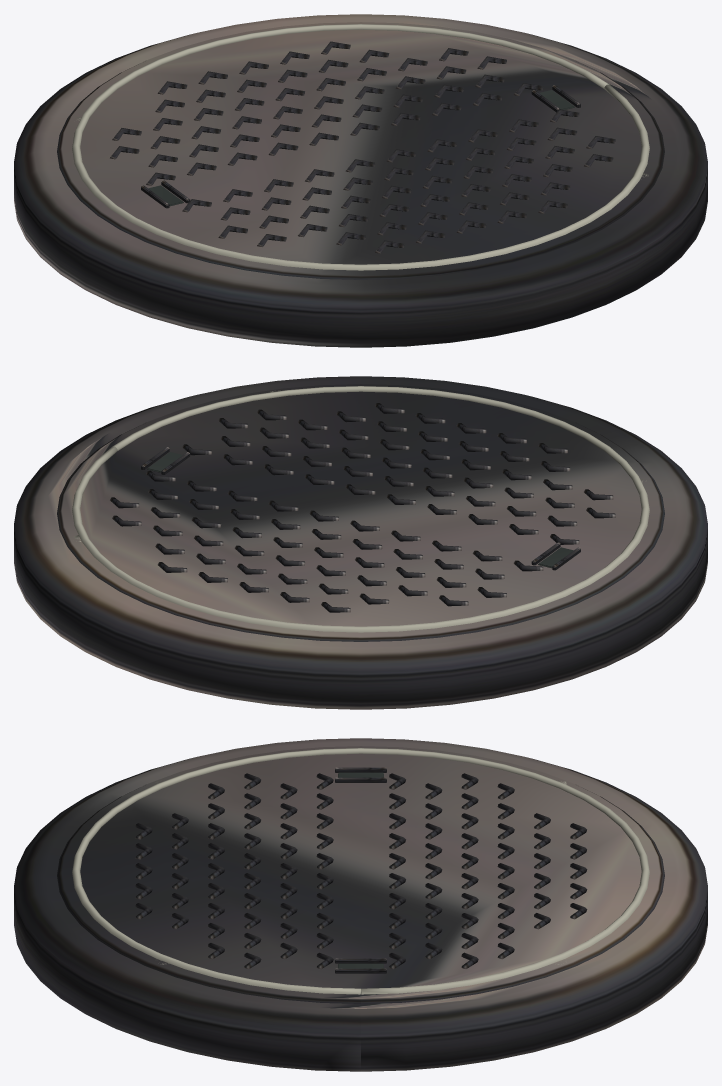
Rendered from municipal-cover.glb.
The picture shows the model from 3 angles, top to bottom: view 1: azimuth 30°, elevation 25°; view 2: azimuth 150°, elevation 25°; view 3: azimuth 270°, elevation 25°; orthographic projection.
Parts seen in each view (by area): view 1: Frame; view 2: Frame; view 3: Frame.
Part boxes in pixels (x1=…): Frame: x1=14, y1=14, x2=707, y2=347; Frame: x1=14, y1=376, x2=707, y2=709; Frame: x1=14, y1=738, x2=707, y2=1071.
Bounding box in the file's own units: 0.824 × 0.0756 × 0.824.
Materials: 3 (1 with a texture image).
